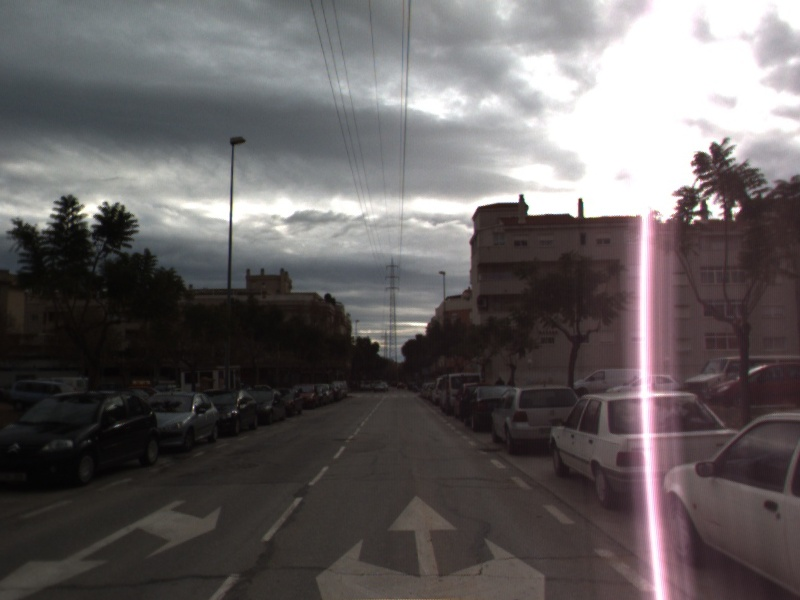STRAIGHT_LEFT_RIGHT: (311, 490, 551, 600)
